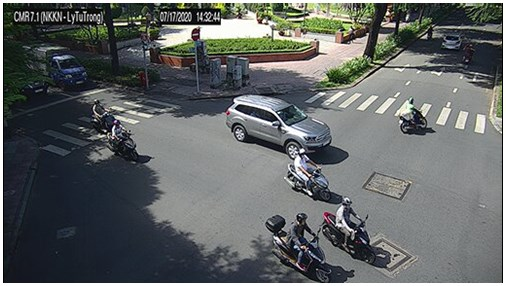xe_hoi: (225, 94, 332, 161), (440, 33, 463, 51)
xe_may: (266, 213, 330, 283), (321, 197, 379, 265), (282, 148, 333, 203), (107, 119, 140, 164), (399, 96, 428, 135), (91, 100, 115, 135), (462, 44, 476, 65), (426, 24, 435, 42)
xe_tai: (21, 42, 87, 88)
